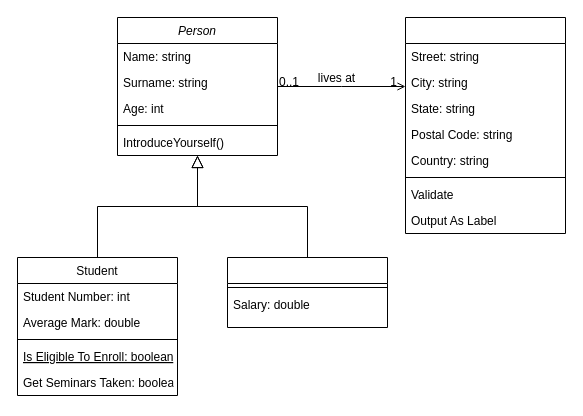
Some shapes in this 583 by 416 pixel diagram are drawn without their labels. The shapes that lost their labels are listed below. From the top down, each one's box as (x1, y1, x2, y2) in pixels, then its label:
(404, 16, 566, 234): Address
(226, 256, 388, 328): Professor
